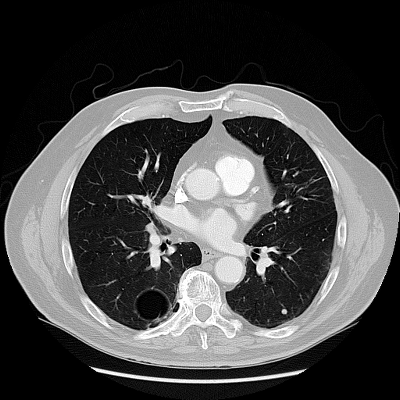nodule: (281, 308, 287, 314)
